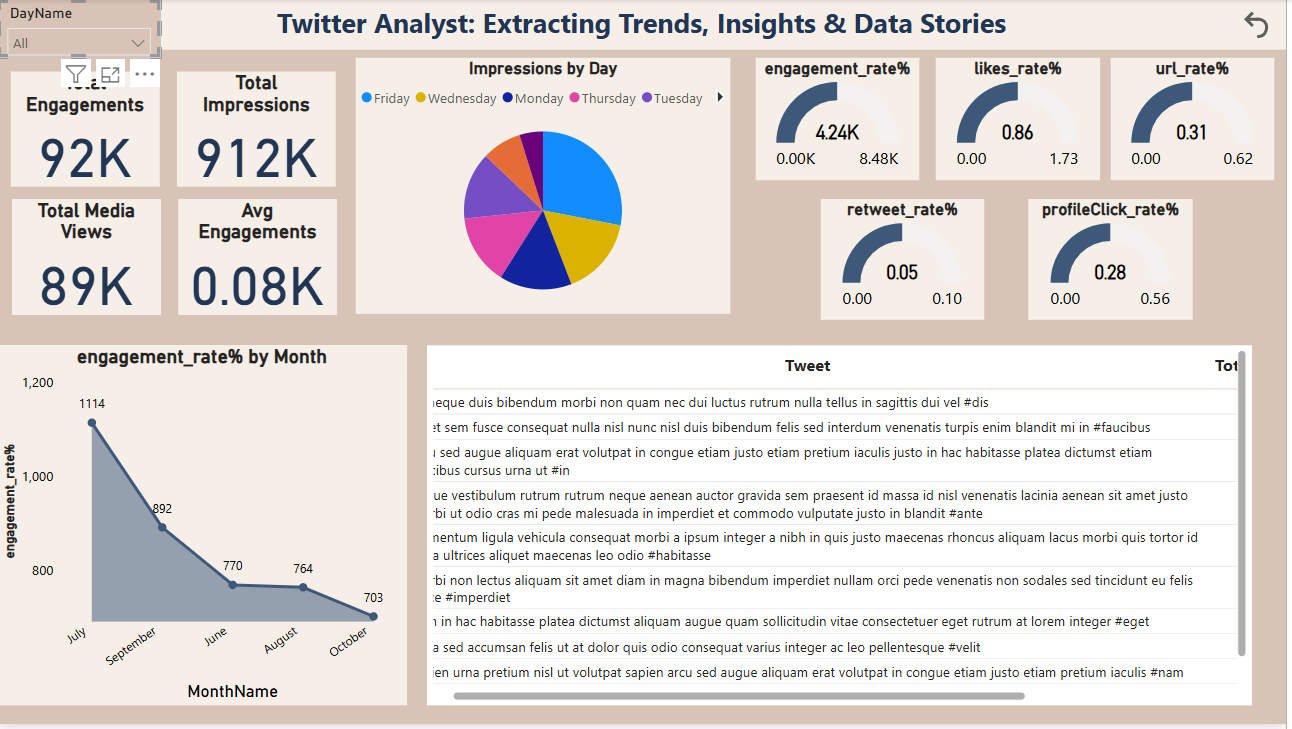

This screenshot's page, from the dashboard's own definition file:
{"tool":"powerbi","page":{"name":"OVERVIEW","canvas":[1280,720],"ordinal":0},"visuals":[{"type":"textbox","box":[0,0,1280,50.4],"z":0},{"type":"card","title":"Total Engagements","fields":{"Values":["Sum(SocialMedia (1).engagements)"]},"box":[13.7,72,147.7,114.2],"z":1000},{"type":"card","title":"Total Impressions","fields":{"Values":["Sum(SocialMedia (1).impressions)"]},"box":[178.7,72,157.6,114.2],"z":2000},{"type":"card","title":"Total Media Views","fields":{"Values":["Sum(SocialMedia (1).media views)"]},"box":[14.4,198.1,147.7,115.3],"z":3000},{"type":"card","title":"Avg Engagements","fields":{"Values":["Avg(SocialMedia (1).engagements)"]},"box":[180.1,198.1,157.3,115.3],"z":4000},{"type":"gauge","fields":{"Y":["SocialMedia (1).engagement_rate%"]},"box":[752.9,58.8,162.1,121.3],"z":5000},{"type":"gauge","fields":{"Y":["SocialMedia (1).likes_rate%"]},"box":[931.8,58.8,163.3,121.3],"z":6000},{"type":"gauge","fields":{"Y":["SocialMedia (1).retweet_rate%"]},"box":[817.7,198.1,162.1,120.1],"z":7000},{"type":"gauge","fields":{"Y":["SocialMedia (1).profileClick_rate%"]},"box":[1024.2,198.1,163.3,120.1],"z":8000},{"type":"gauge","fields":{"Y":["SocialMedia (1).url_rate%"]},"box":[1105.9,58.8,162.1,121.3],"z":9000},{"type":"lineChart","title":"engagement_rate% by Month","fields":{"Category":["SocialMedia (1).MonthName"],"Y":["SocialMedia (1).engagement_rate%"]},"box":[0,343.4,407.1,357.8],"z":10000},{"type":"tableEx","fields":{"Values":["SocialMedia (1).Tweet","Sum(SocialMedia (1).impressions)","Sum(SocialMedia (1).engagement rate)"]},"box":[427.5,343.4,818.9,357.8],"z":11000},{"type":"pieChart","title":"Impressions by Day","fields":{"Category":["SocialMedia (1).DayName"],"Y":["Sum(SocialMedia (1).impressions)"]},"box":[356.6,58.8,372.2,254.6],"z":12000},{"type":"actionButton","box":[1233.2,7.2,46.8,36],"z":13000},{"type":"slicer","fields":{"Values":["SocialMedia (1).DayName"]},"box":[0,0,162.6,58.3],"z":14000}]}

Visuals, with their boxes on the page's 1280x720 design canvas (x1, y1, x2, y2). These are canvas units, not pixel positions in the 1292x729 screenshot, which may show the page scaled, cropped or inside an application window:
textbox: 0/0/1280/50
"Total Engagements" card: 14/72/161/186
"Total Impressions" card: 179/72/336/186
"Total Media Views" card: 14/198/162/313
"Avg Engagements" card: 180/198/337/313
gauge - SocialMedia (1).engagement_rate%: 753/59/915/180
gauge - SocialMedia (1).likes_rate%: 932/59/1095/180
gauge - SocialMedia (1).retweet_rate%: 818/198/980/318
gauge - SocialMedia (1).profileClick_rate%: 1024/198/1188/318
gauge - SocialMedia (1).url_rate%: 1106/59/1268/180
"engagement_rate% by Month" lineChart: 0/343/407/701
tableEx - SocialMedia (1).Tweet x Sum(SocialMedia (1).impressions): 428/343/1246/701
"Impressions by Day" pieChart: 357/59/729/313
actionButton: 1233/7/1280/43
slicer - SocialMedia (1).DayName: 0/0/163/58
